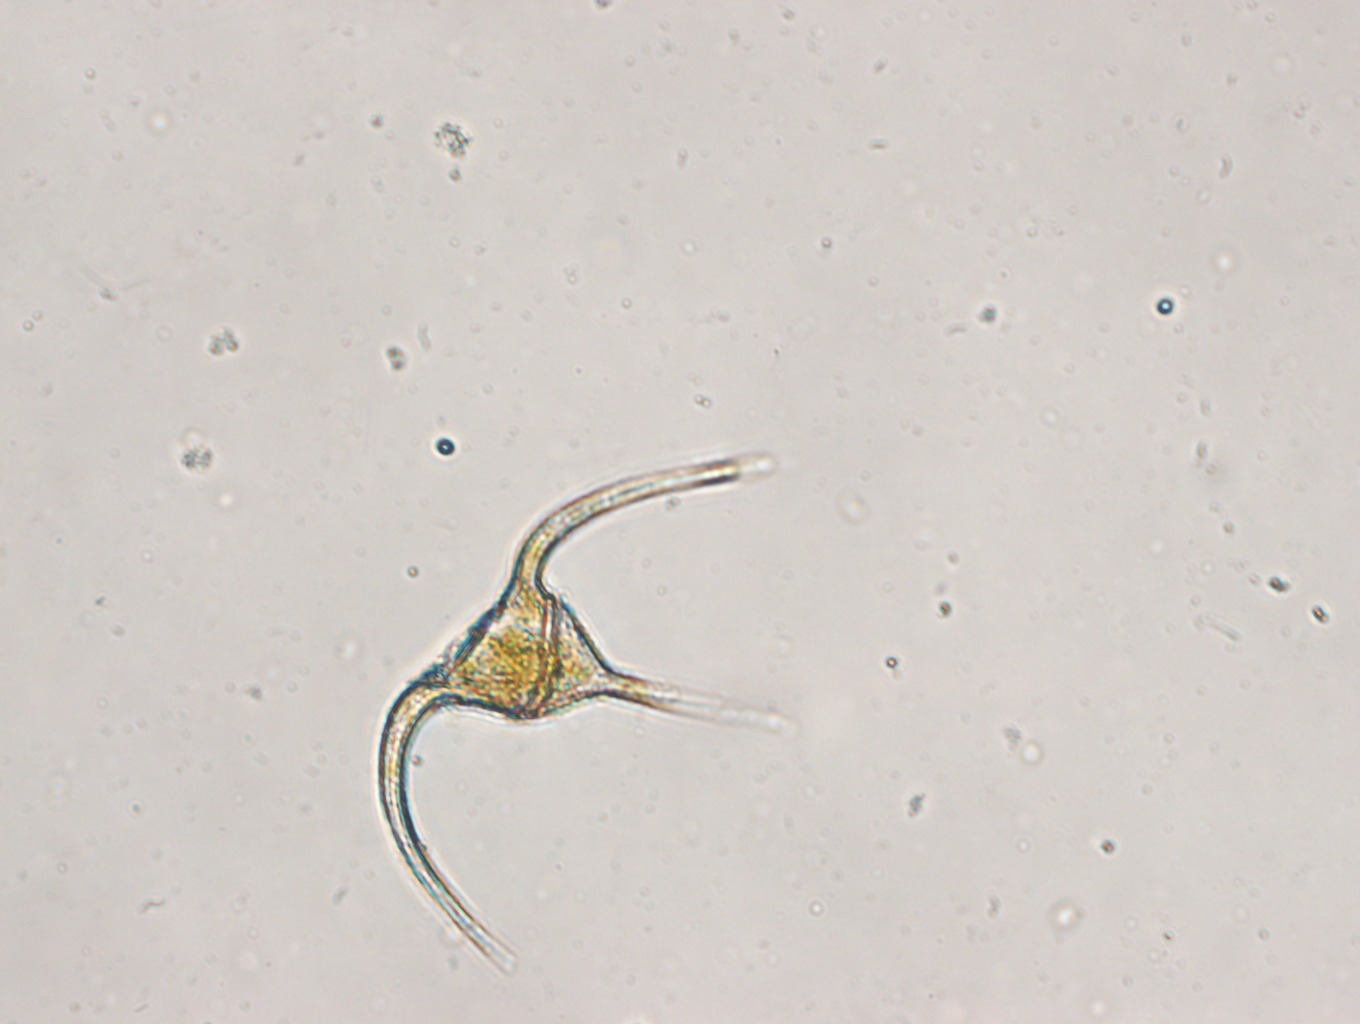ceratium trichoceros: (370, 422, 802, 982)
